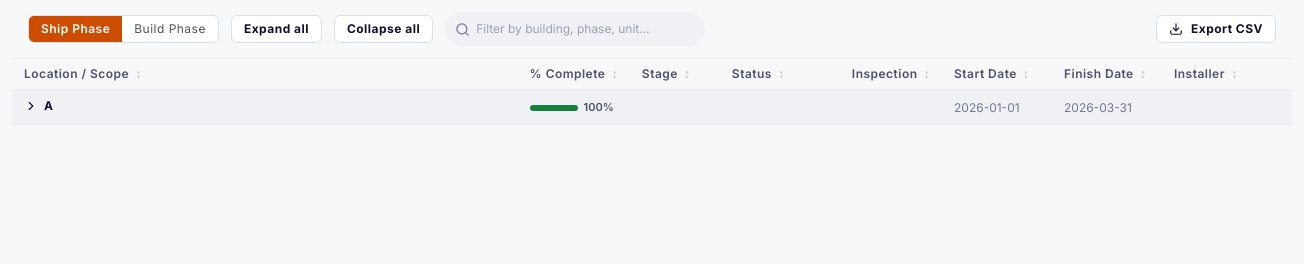
Test: LocationProgressBreakdown (component) › expand all makes sub-rows visible
Click the button "Expand all": [276, 29] box x1=231 y1=15 x2=322 y2=43
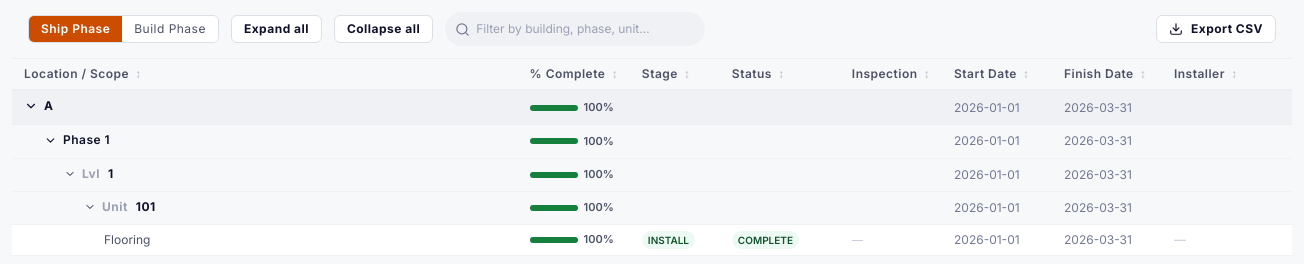
Check: the button "Unit 101" is shown, box x1=84 y1=198 x2=156 y2=216
